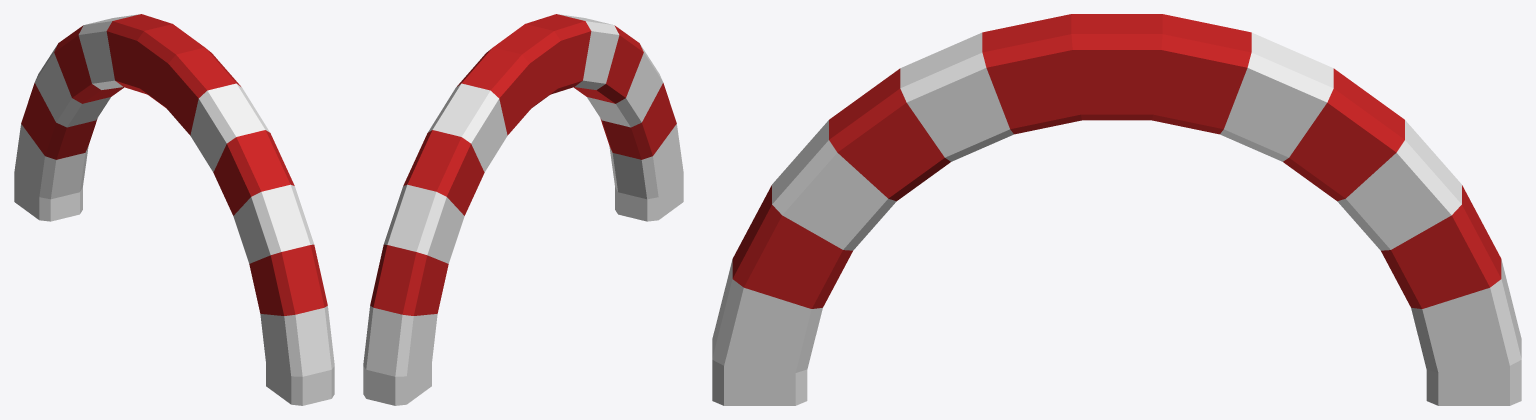
The model's file is Prop_Track_Arch_1x4.obj.
3 views of the same model, side by side, from view 1: azimuth 30°, elevation 25°; view 2: azimuth 150°, elevation 25°; view 3: azimuth 270°, elevation 25° (orthographic). The views are drawn at different scales.
Visible parts, largest first — view 1: Arch_White, Arch_Red; view 2: Arch_White, Arch_Red; view 3: Arch_Red, Arch_White.
Boxes of the visible parts, x1=… form: Arch_White: x1=14, y1=14, x2=334, y2=405; Arch_Red: x1=21, y1=14, x2=327, y2=315; Arch_White: x1=363, y1=14, x2=683, y2=405; Arch_Red: x1=370, y1=14, x2=676, y2=315; Arch_Red: x1=732, y1=14, x2=1501, y2=308; Arch_White: x1=712, y1=32, x2=1521, y2=405.
Bounding box in the file's own units: 0.3 × 1.7 × 3.4.
